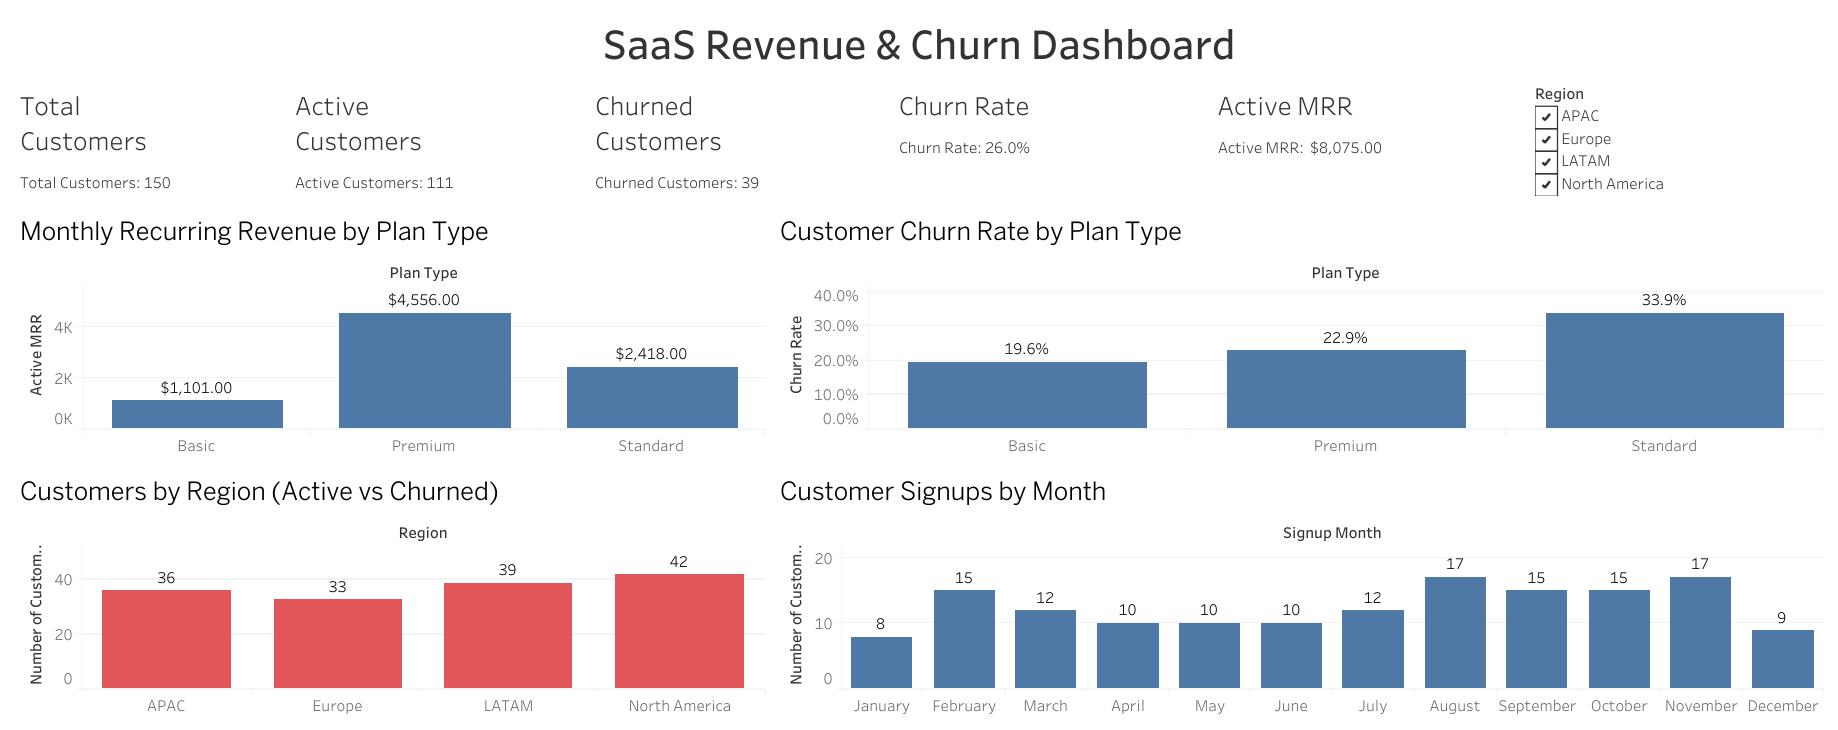

The page's visual inventory and layout, read from the dashboard file:
{"tool":"tableau","page":{"name":"SaaS Revenue & Churn","canvas":[1000,1000],"units":"permille","ordinal":0},"visuals":[{"type":"title","box":[4.8,10,990.3,78.7]},{"type":"worksheet","title":"Total Customers","mark":"Text","box":[4.8,88.6,149.7,142.3]},{"type":"worksheet","title":"Active Customers","mark":"Text","box":[154.5,88.6,163.5,176.8]},{"type":"worksheet","title":"Churned Customers","mark":"Text","box":[318,88.6,165.4,176.8]},{"type":"worksheet","title":"Churn Rate KPI","mark":"Automatic","box":[483.4,88.6,173.2,176.8]},{"type":"worksheet","title":"Active MRR KPI","mark":"Automatic","box":[656.6,88.6,175.6,176.8]},{"type":"filter","title":"Customers by Region & Status","param":"[federated.0xmbswb16zd4vp16epq730recg3p].[none:region:nk]","box":[832.2,88.6,162.9,176.8]},{"type":"worksheet","title":"MRR by Plan","mark":"Bar","rows":["Calculation_768708172876771331"],"cols":["plan_type"],"box":[4.8,265.5,414,362.3]},{"type":"worksheet","title":"Churn Rate by Plan","mark":"Bar","rows":["Calculation_768708172876648450"],"cols":["plan_type"],"box":[418.8,265.5,576.4,362.3]},{"type":"worksheet","title":"Customers by Region & Status","mark":"Bar","rows":["customer_id"],"cols":["region"],"box":[4.8,627.7,414,362.3]},{"type":"worksheet","title":"Signups by Month","mark":"Bar","rows":["customer_id"],"cols":["signup_month"],"box":[418.8,627.7,576.4,362.3]}]}

Visuals, with their boxes on the dashboard's canvas, which has no fixed pixel size, in thousandths of its width and height (x1, y1, x2, y2). These are canvas units, not pixel positions in the 1838x730 screenshot, which may show the page scaled, cropped or inside an application window:
title: (left=5, top=10, right=995, bottom=89)
"Total Customers" worksheet (Text marks): (left=5, top=89, right=154, bottom=231)
"Active Customers" worksheet (Text marks): (left=154, top=89, right=318, bottom=265)
"Churned Customers" worksheet (Text marks): (left=318, top=89, right=483, bottom=265)
"Churn Rate KPI" worksheet: (left=483, top=89, right=657, bottom=265)
"Active MRR KPI" worksheet: (left=657, top=89, right=832, bottom=265)
"Customers by Region & Status" filter: (left=832, top=89, right=995, bottom=265)
"MRR by Plan" worksheet (Bar marks): (left=5, top=266, right=419, bottom=628)
"Churn Rate by Plan" worksheet (Bar marks): (left=419, top=266, right=995, bottom=628)
"Customers by Region & Status" worksheet (Bar marks): (left=5, top=628, right=419, bottom=990)
"Signups by Month" worksheet (Bar marks): (left=419, top=628, right=995, bottom=990)
